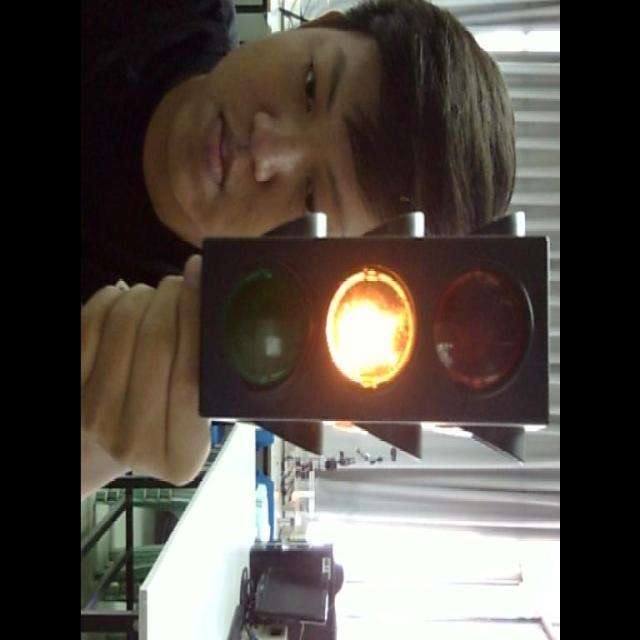yellow_light: (198, 235, 547, 421)
